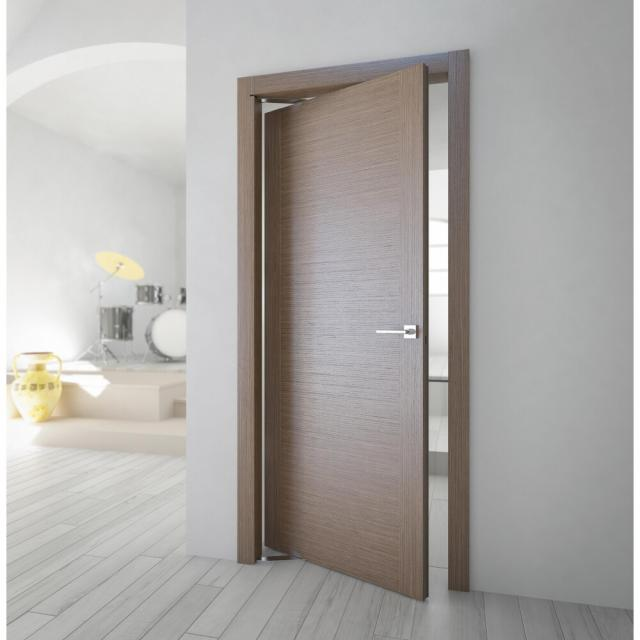open: (241, 84, 469, 590)
